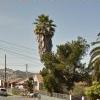Palm tree: (28, 11, 67, 87)
